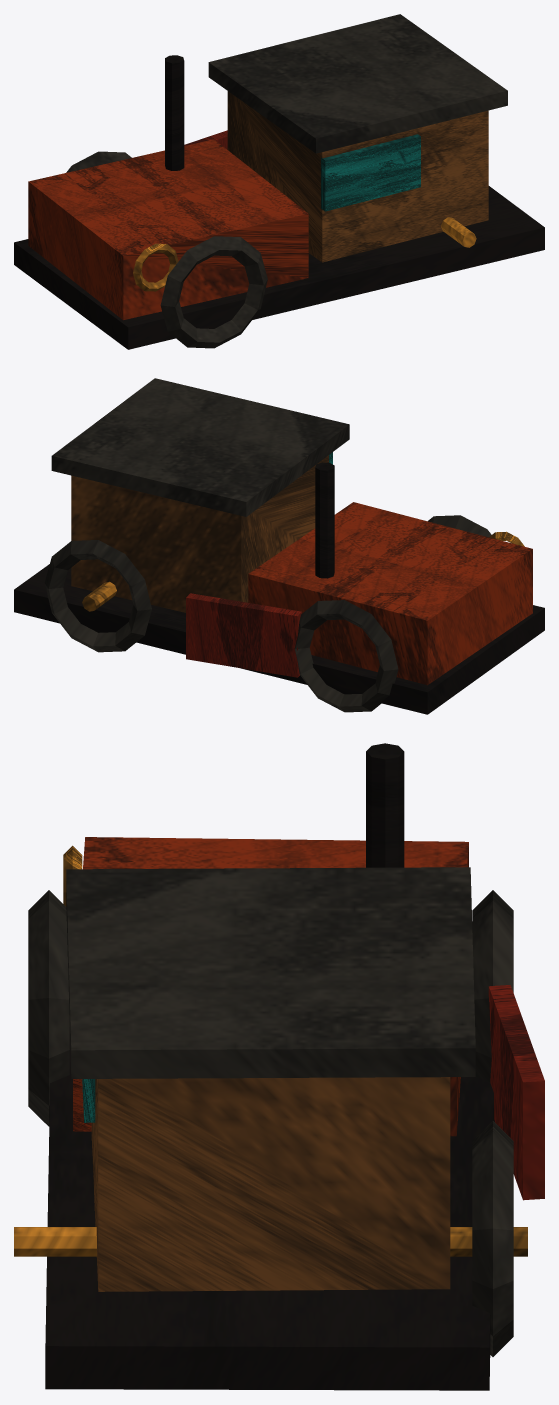
File: flivver-row-east-b.glb
3 renders of one model, top to bottom at view 1: azimuth 30°, elevation 25°; view 2: azimuth 150°, elevation 25°; view 3: azimuth 270°, elevation 25°, orthographic. The views are drawn at different scales.
Visible parts, largest first — view 1: flivver-row-east-b; view 2: flivver-row-east-b; view 3: flivver-row-east-b.
Part boxes in pixels (x1,y1,x2,y2): flivver-row-east-b: [14, 14, 544, 349]; flivver-row-east-b: [14, 378, 544, 714]; flivver-row-east-b: [14, 743, 544, 1390].
Bounding box in the file's own units: 5.82 × 2.85 × 3.35.
1 material, 1 textured.
